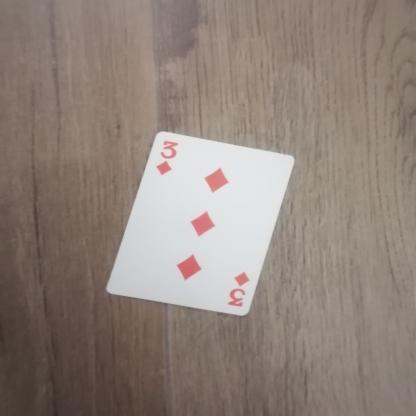3D: (209, 260, 266, 316), (142, 128, 184, 194)
